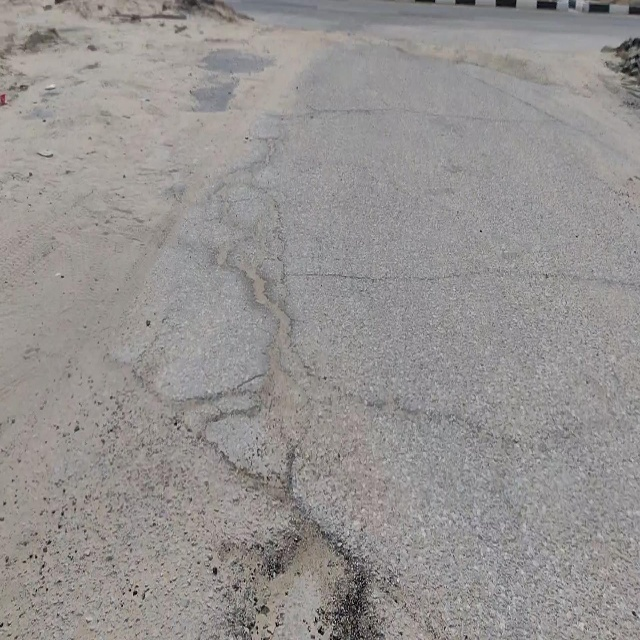pothole: (216, 501, 376, 640)
